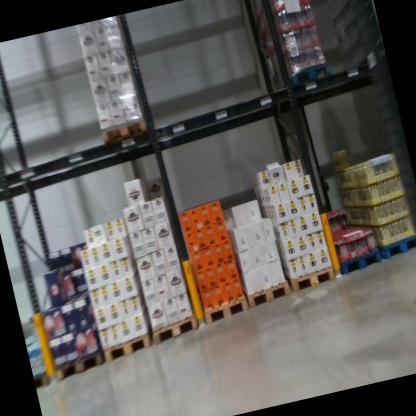pallet: (45, 334, 110, 384), (273, 57, 340, 99), (239, 261, 295, 311), (281, 247, 338, 296), (98, 107, 156, 153), (97, 324, 159, 366), (333, 242, 388, 282), (201, 286, 253, 327), (149, 307, 202, 346), (377, 227, 416, 265), (32, 361, 54, 390)
